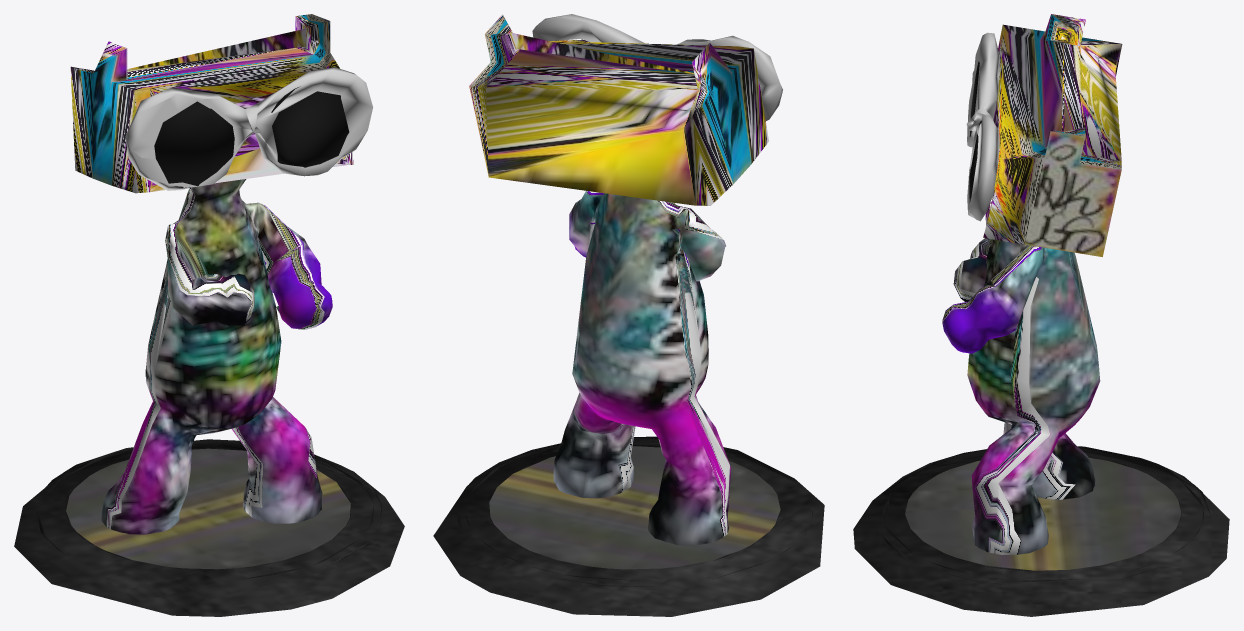
3 renders of one model, left to right at view 1: azimuth 30°, elevation 25°; view 2: azimuth 150°, elevation 25°; view 3: azimuth 270°, elevation 25°, orthographic. The views are drawn at different scales.
Bounding box in the file's own units: 1.44 × 2.03 × 1.43.
Materials: 7 (4 with a texture image).
